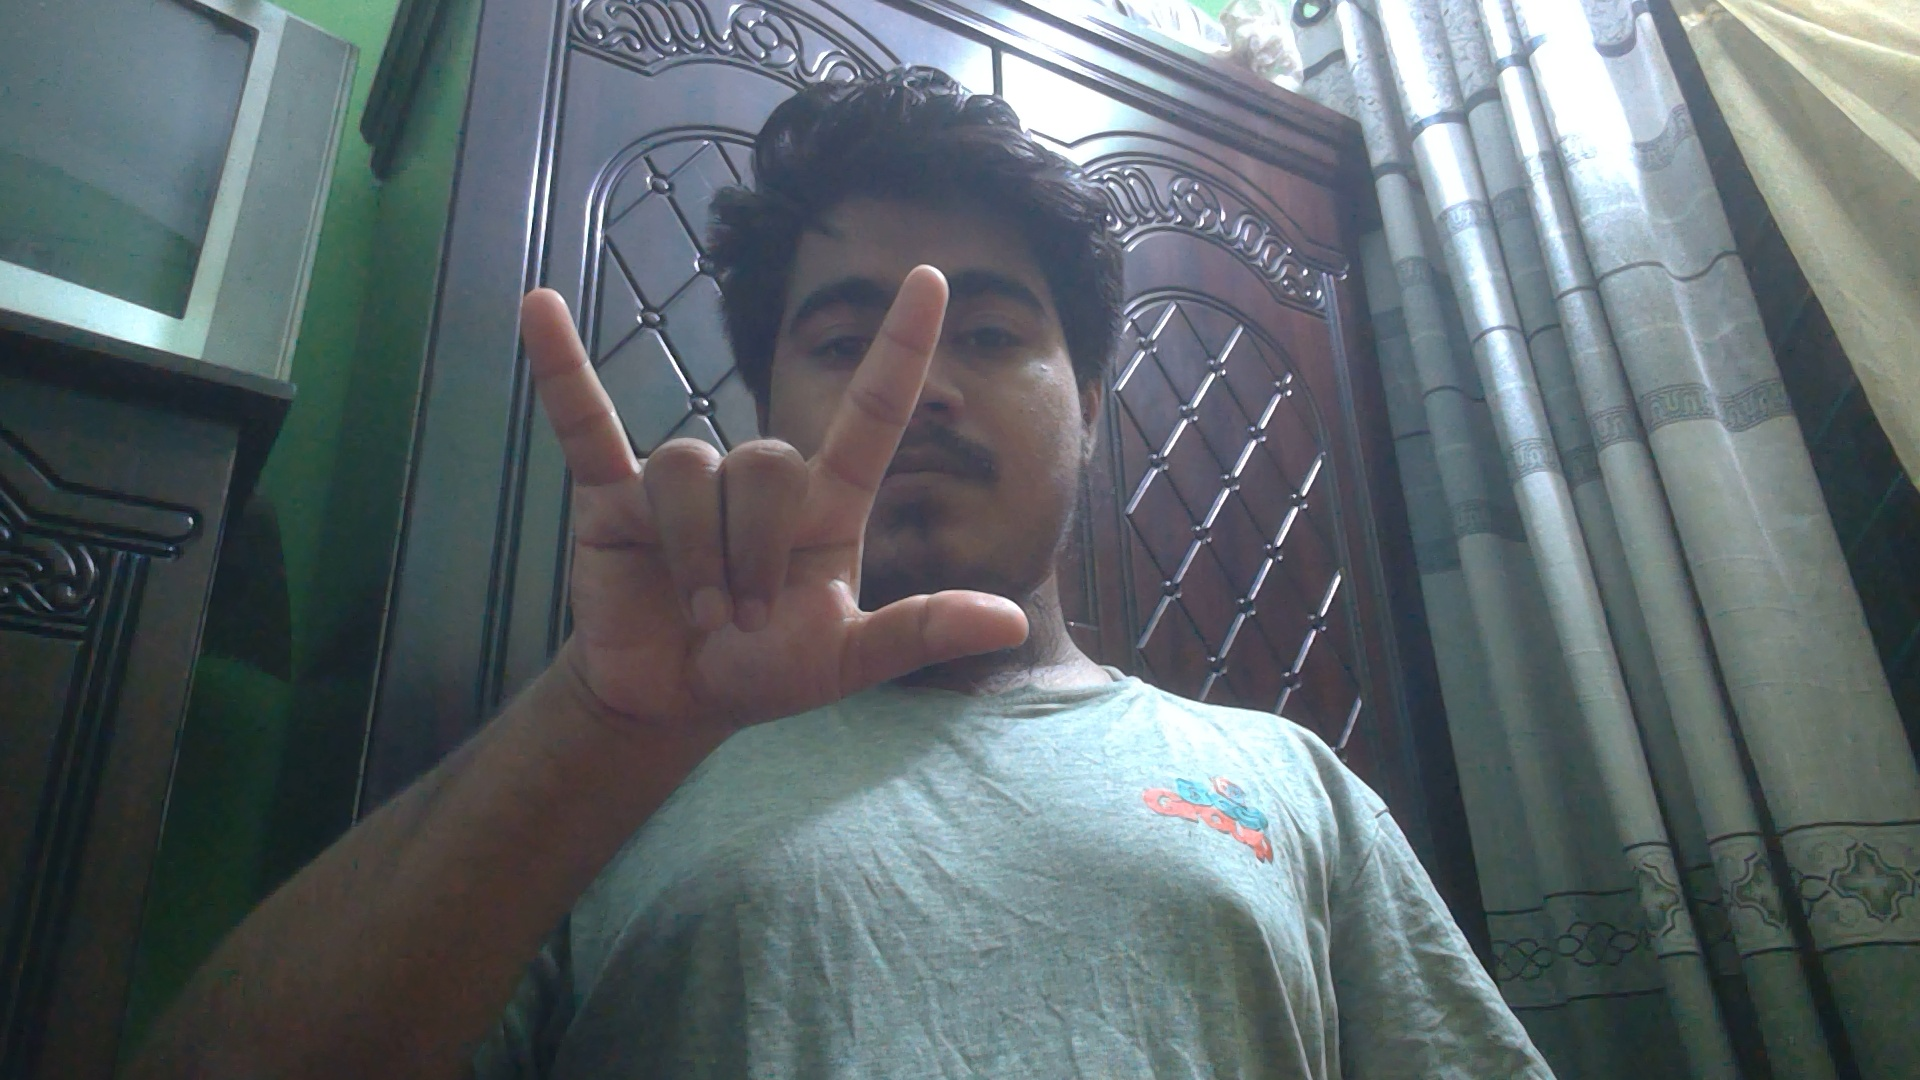Iloveyou: (509, 255, 1040, 738)
